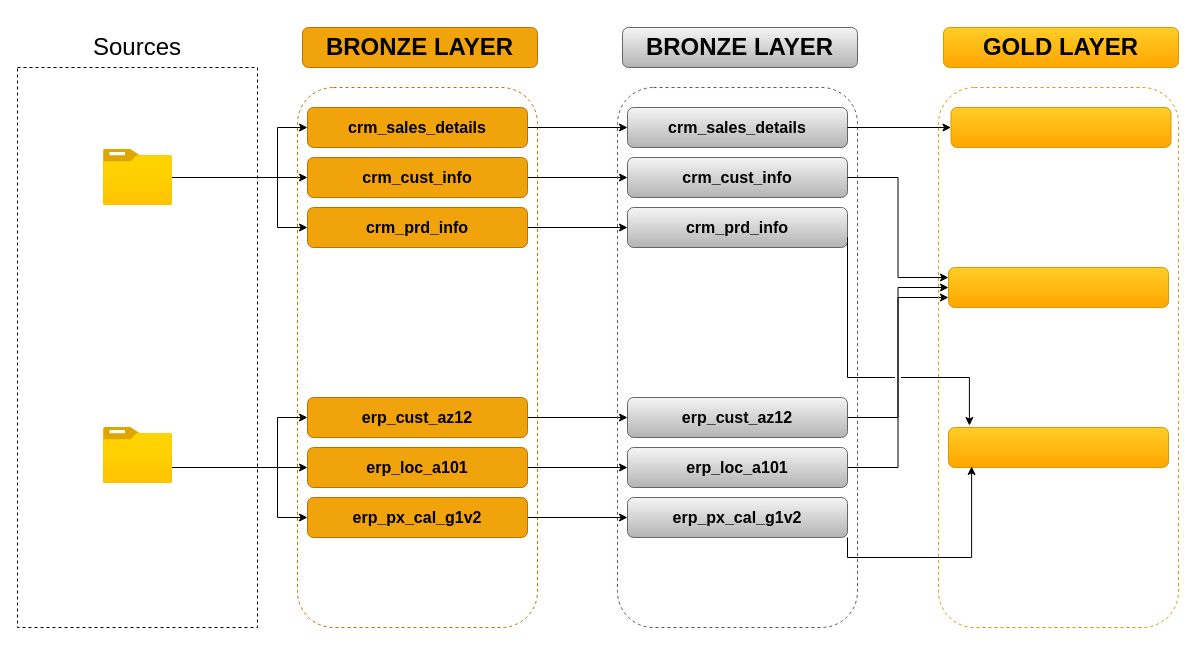
The diagram is 1196 pixels wide and 645 high, and some of its shapes have lost their labels. Here are the shapes that lost their labels. From the top down, the centre of each, then its label:
At pixel 1060 127: "fact_sales".
At pixel 137 177: "CRM".
At pixel 1058 287: "dim_customers".
At pixel 137 455: "ERP".
At pixel 1058 447: "dim_products".
